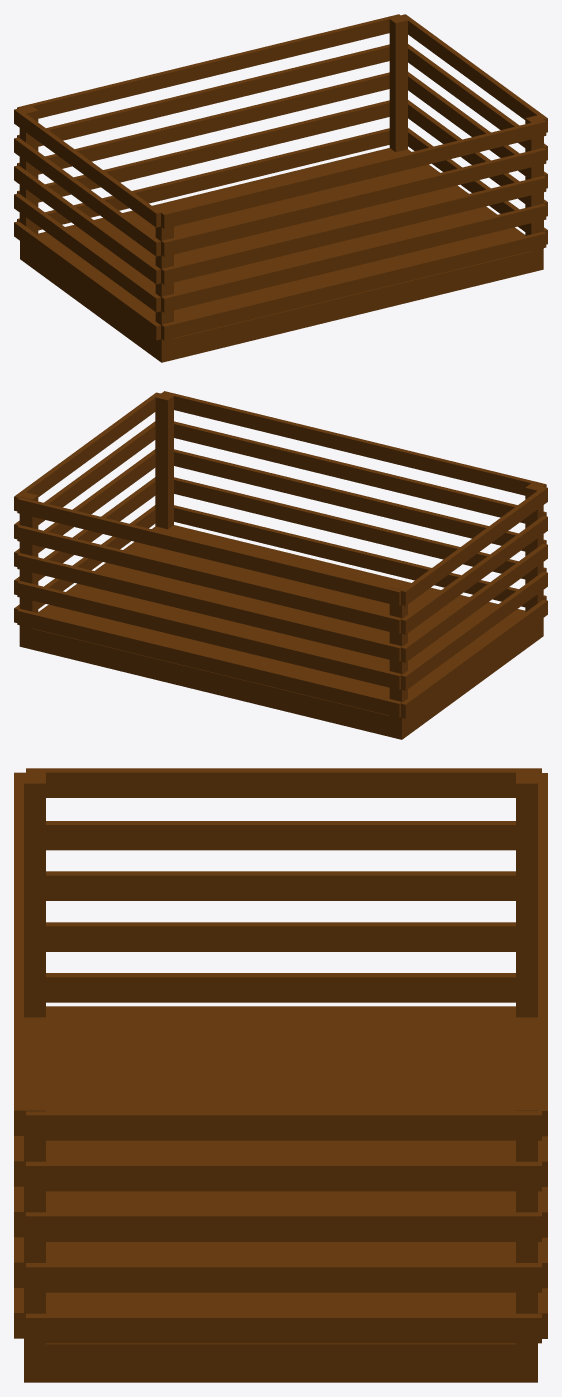
The model's file is tiem-banh-dai.glb.
3 renders of one model, top to bottom at view 1: azimuth 30°, elevation 25°; view 2: azimuth 150°, elevation 25°; view 3: azimuth 270°, elevation 25°, orthographic. The views are drawn at different scales.
Visible parts, largest first — view 1: tiem-banh-dai; view 2: tiem-banh-dai; view 3: tiem-banh-dai.
Boxes of the visible parts, left/top/right/bottom form: tiem-banh-dai: left=14, top=14, right=547, bottom=362; tiem-banh-dai: left=14, top=391, right=547, bottom=739; tiem-banh-dai: left=14, top=768, right=547, bottom=1382.
Bounding box in the file's own units: 4.1 × 1.5 × 2.67.
